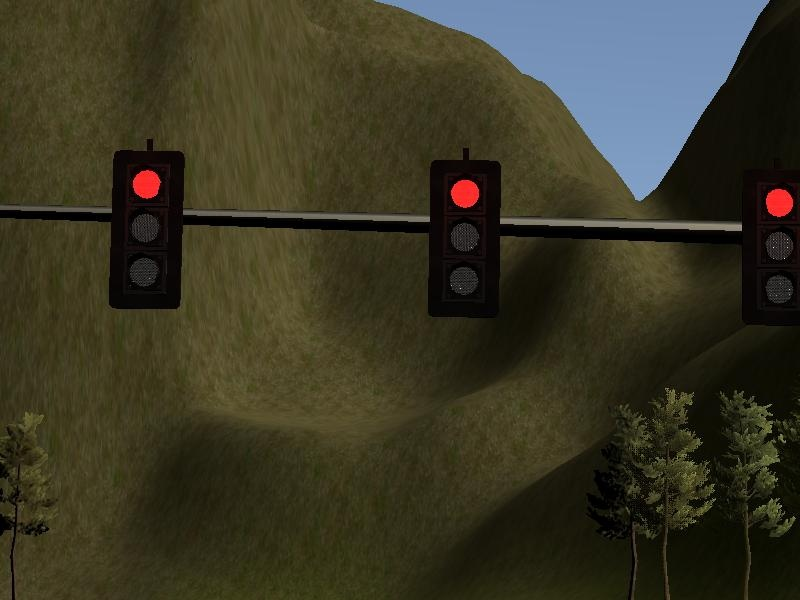RED: (110, 150, 182, 307), (429, 162, 498, 313), (741, 166, 800, 323)
